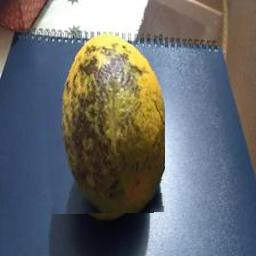Orange Semirotten: (38, 25, 165, 214)
